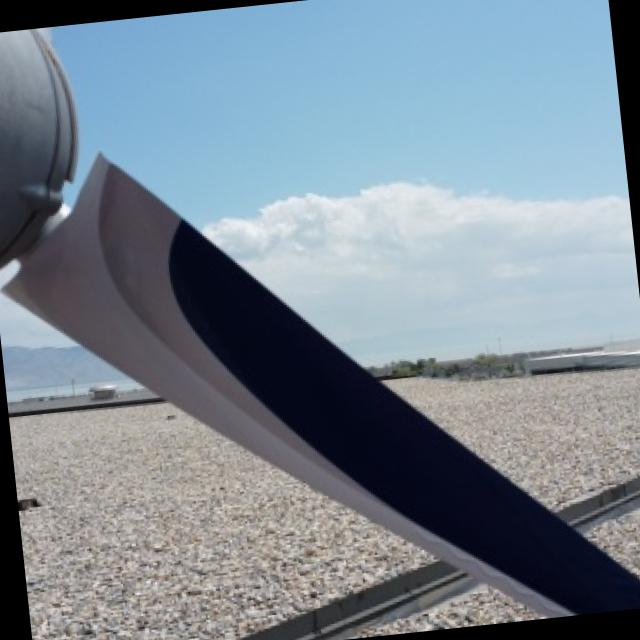healthy: (8, 156, 640, 614)
